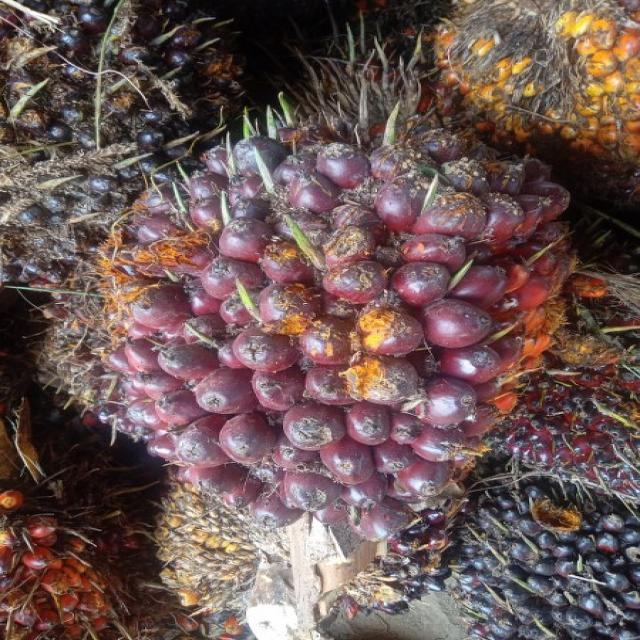fraksi 1: (29, 116, 581, 561)
